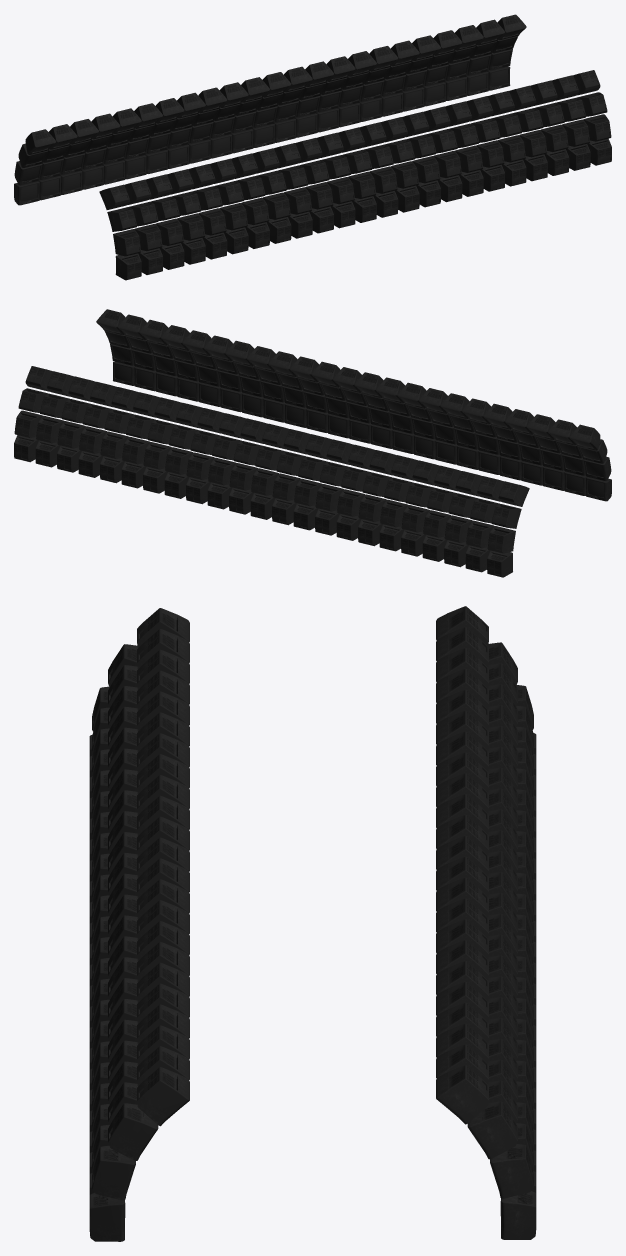
Rendered from tvs.fbx.
The picture shows the model from 3 angles, top to bottom: view 1: azimuth 30°, elevation 25°; view 2: azimuth 150°, elevation 25°; view 3: azimuth 270°, elevation 25°; orthographic projection. The views are drawn at different scales.
Visible parts, largest first — view 1: defaultMaterial.005, defaultMaterial.009, defaultMaterial.001; view 2: defaultMaterial.009, defaultMaterial.005, defaultMaterial.004; view 3: defaultMaterial.005, defaultMaterial.009.
Boxes of the visible parts, left/top/right/bottom form: defaultMaterial.005: left=99, top=70, right=611, bottom=280; defaultMaterial.009: left=14, top=14, right=526, bottom=205; defaultMaterial.001: left=21, top=29, right=522, bottom=201; defaultMaterial.009: left=14, top=366, right=529, bottom=577; defaultMaterial.005: left=96, top=309, right=611, bottom=501; defaultMaterial.004: left=100, top=324, right=604, bottom=497; defaultMaterial.005: left=89, top=608, right=189, bottom=1241; defaultMaterial.009: left=436, top=606, right=536, bottom=1239.
Bounding box in the file's own units: 2770 × 431 × 1086.
